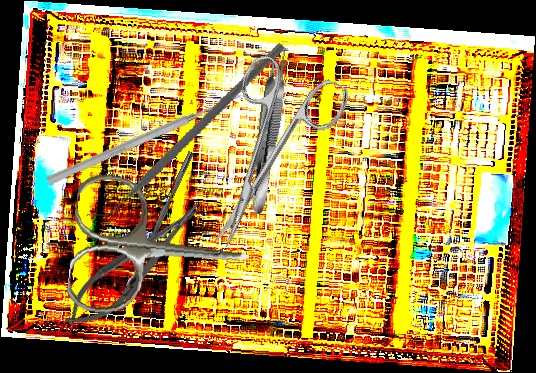Chopper: (85, 7, 285, 253)
Iris Scissors: (169, 43, 355, 268), (65, 171, 256, 328)
Needle Holder: (54, 191, 214, 341)
Pusher: (45, 89, 244, 188)
Surgical Spoon: (124, 150, 195, 289)
Tissue Forceps: (245, 45, 292, 216)
